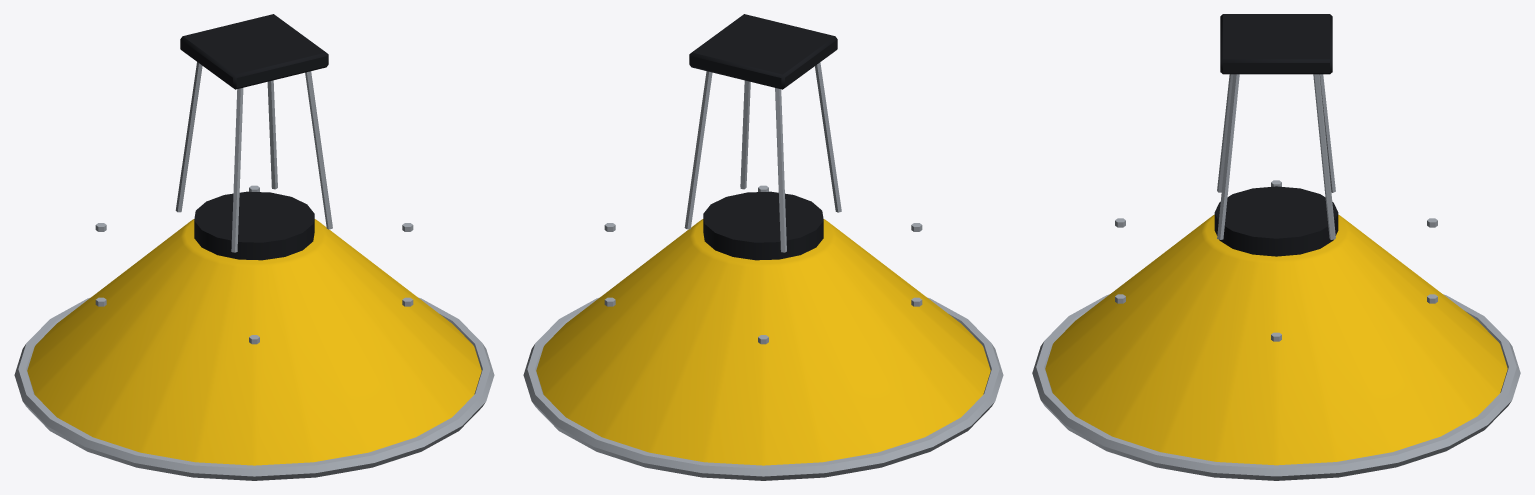
File: ceilinglight_industrial_high_bay.glb
3 renders of one model, left to right at view 1: azimuth 30°, elevation 25°; view 2: azimuth 150°, elevation 25°; view 3: azimuth 270°, elevation 25°, orthographic.
Parts seen in each view (by area): view 1: ceilinglight_industrial_high_bay; view 2: ceilinglight_industrial_high_bay; view 3: ceilinglight_industrial_high_bay.
Part boxes in pixels (box(x1,y1,x2,y2)): ceilinglight_industrial_high_bay: box(14, 14, 494, 480); ceilinglight_industrial_high_bay: box(523, 14, 1003, 480); ceilinglight_industrial_high_bay: box(1032, 14, 1520, 480).
Bounding box in the file's own units: 0.868 × 0.705 × 0.868.
